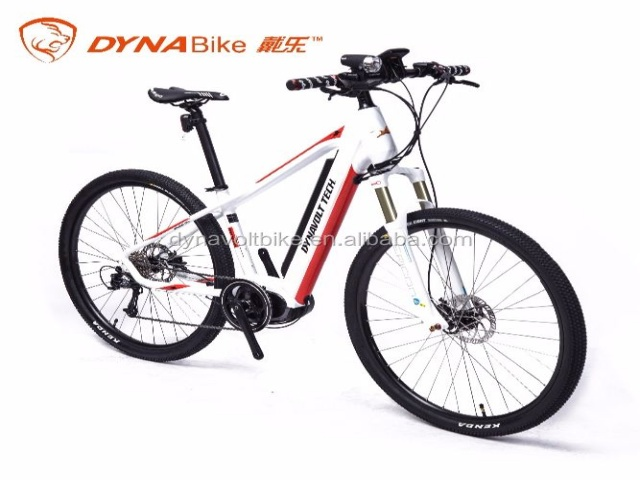bike: (55, 52, 598, 442)
